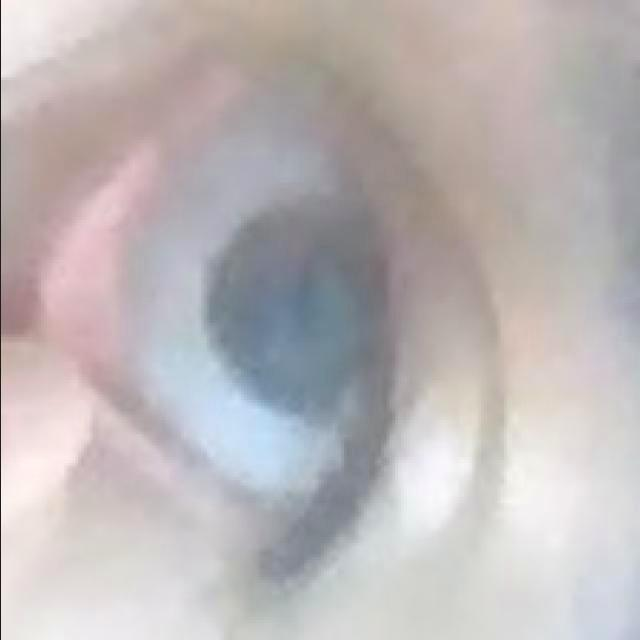conjunctiva_pallor: (46, 141, 223, 497)
